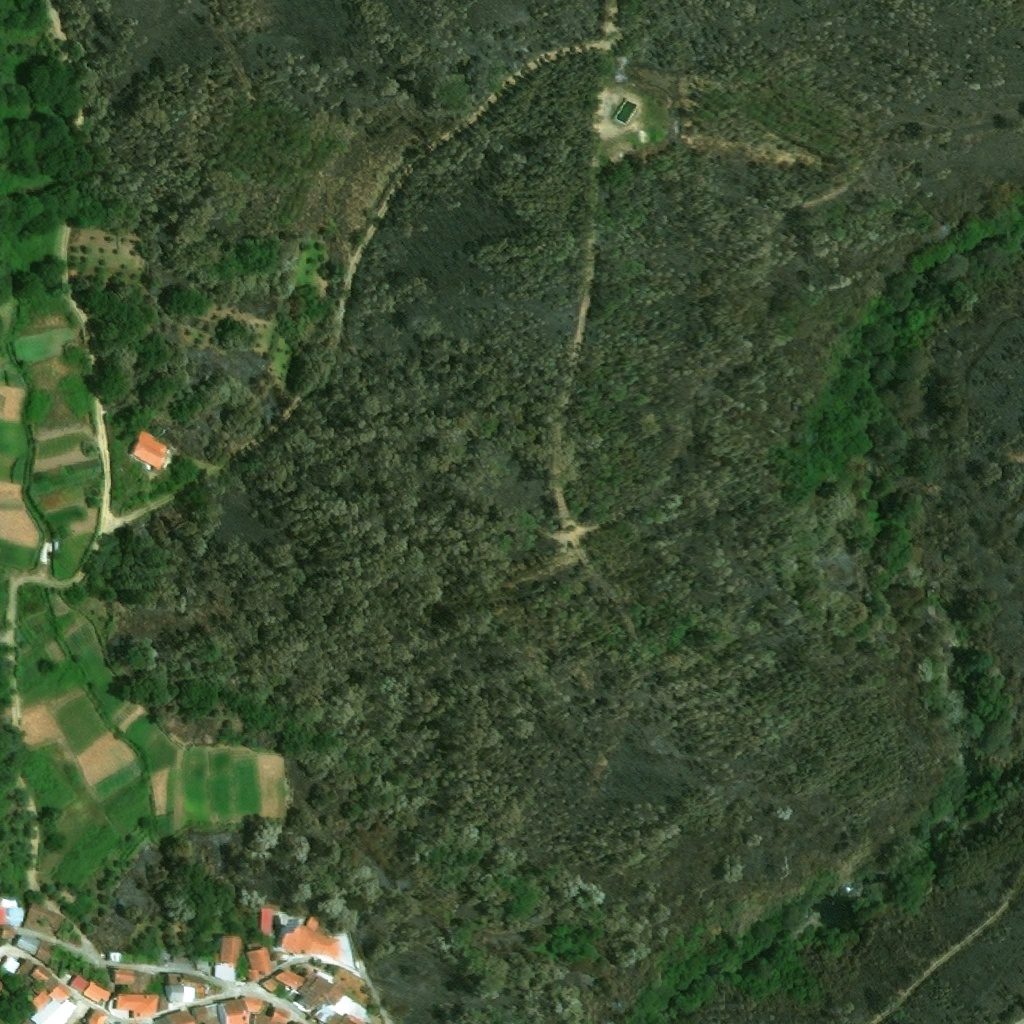0 no-damage: (291, 970, 346, 1022), (279, 917, 338, 958), (214, 936, 241, 983), (31, 998, 80, 1023), (218, 997, 262, 1023), (23, 904, 61, 933), (131, 440, 167, 470), (115, 994, 159, 1018), (166, 973, 205, 1000), (245, 947, 272, 982), (112, 969, 152, 992), (272, 968, 307, 992), (83, 980, 111, 1002), (192, 1003, 219, 1023), (14, 935, 39, 956), (164, 955, 193, 972), (254, 1010, 291, 1023), (31, 990, 53, 1011), (70, 973, 91, 994), (35, 942, 54, 965), (49, 984, 72, 1003), (168, 1010, 199, 1023), (0, 956, 20, 975), (31, 966, 52, 984), (258, 908, 271, 936), (7, 907, 23, 927), (259, 977, 280, 992), (86, 1010, 110, 1023), (166, 984, 183, 1002), (326, 1013, 355, 1023), (17, 960, 33, 978), (44, 976, 59, 991), (0, 925, 16, 939), (344, 1013, 366, 1023), (196, 962, 209, 976), (154, 1014, 174, 1023), (275, 914, 288, 926), (0, 899, 17, 908), (108, 952, 121, 963), (184, 987, 194, 1001), (158, 949, 165, 960)
4 un-classified: (613, 99, 639, 126), (380, 1010, 394, 1023), (367, 1013, 381, 1023), (0, 908, 7, 926)
